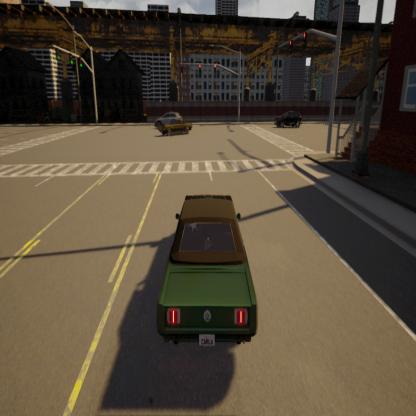Cars: (156, 188, 266, 363), (158, 117, 196, 143), (151, 107, 192, 128), (274, 109, 304, 132)
